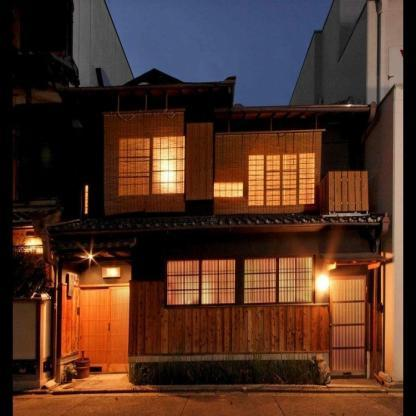Blind: (214, 129, 326, 215), (102, 109, 185, 216), (279, 257, 313, 303), (202, 260, 236, 305), (167, 260, 199, 305), (244, 259, 276, 303)
Building Outline: (47, 68, 390, 381)
Door: (80, 285, 132, 373), (330, 275, 366, 375)
Facade: (84, 113, 365, 382)
Floor Slab: (84, 208, 365, 219)
Ground Floor: (53, 225, 380, 381)
Roof: (56, 68, 377, 113), (47, 213, 390, 235), (50, 236, 136, 250)
Top Floor: (84, 106, 365, 212)
Window: (249, 154, 315, 205), (118, 137, 150, 195), (153, 137, 185, 194), (279, 257, 313, 303), (202, 260, 236, 305), (167, 260, 199, 305), (244, 259, 276, 303), (214, 182, 243, 197)
